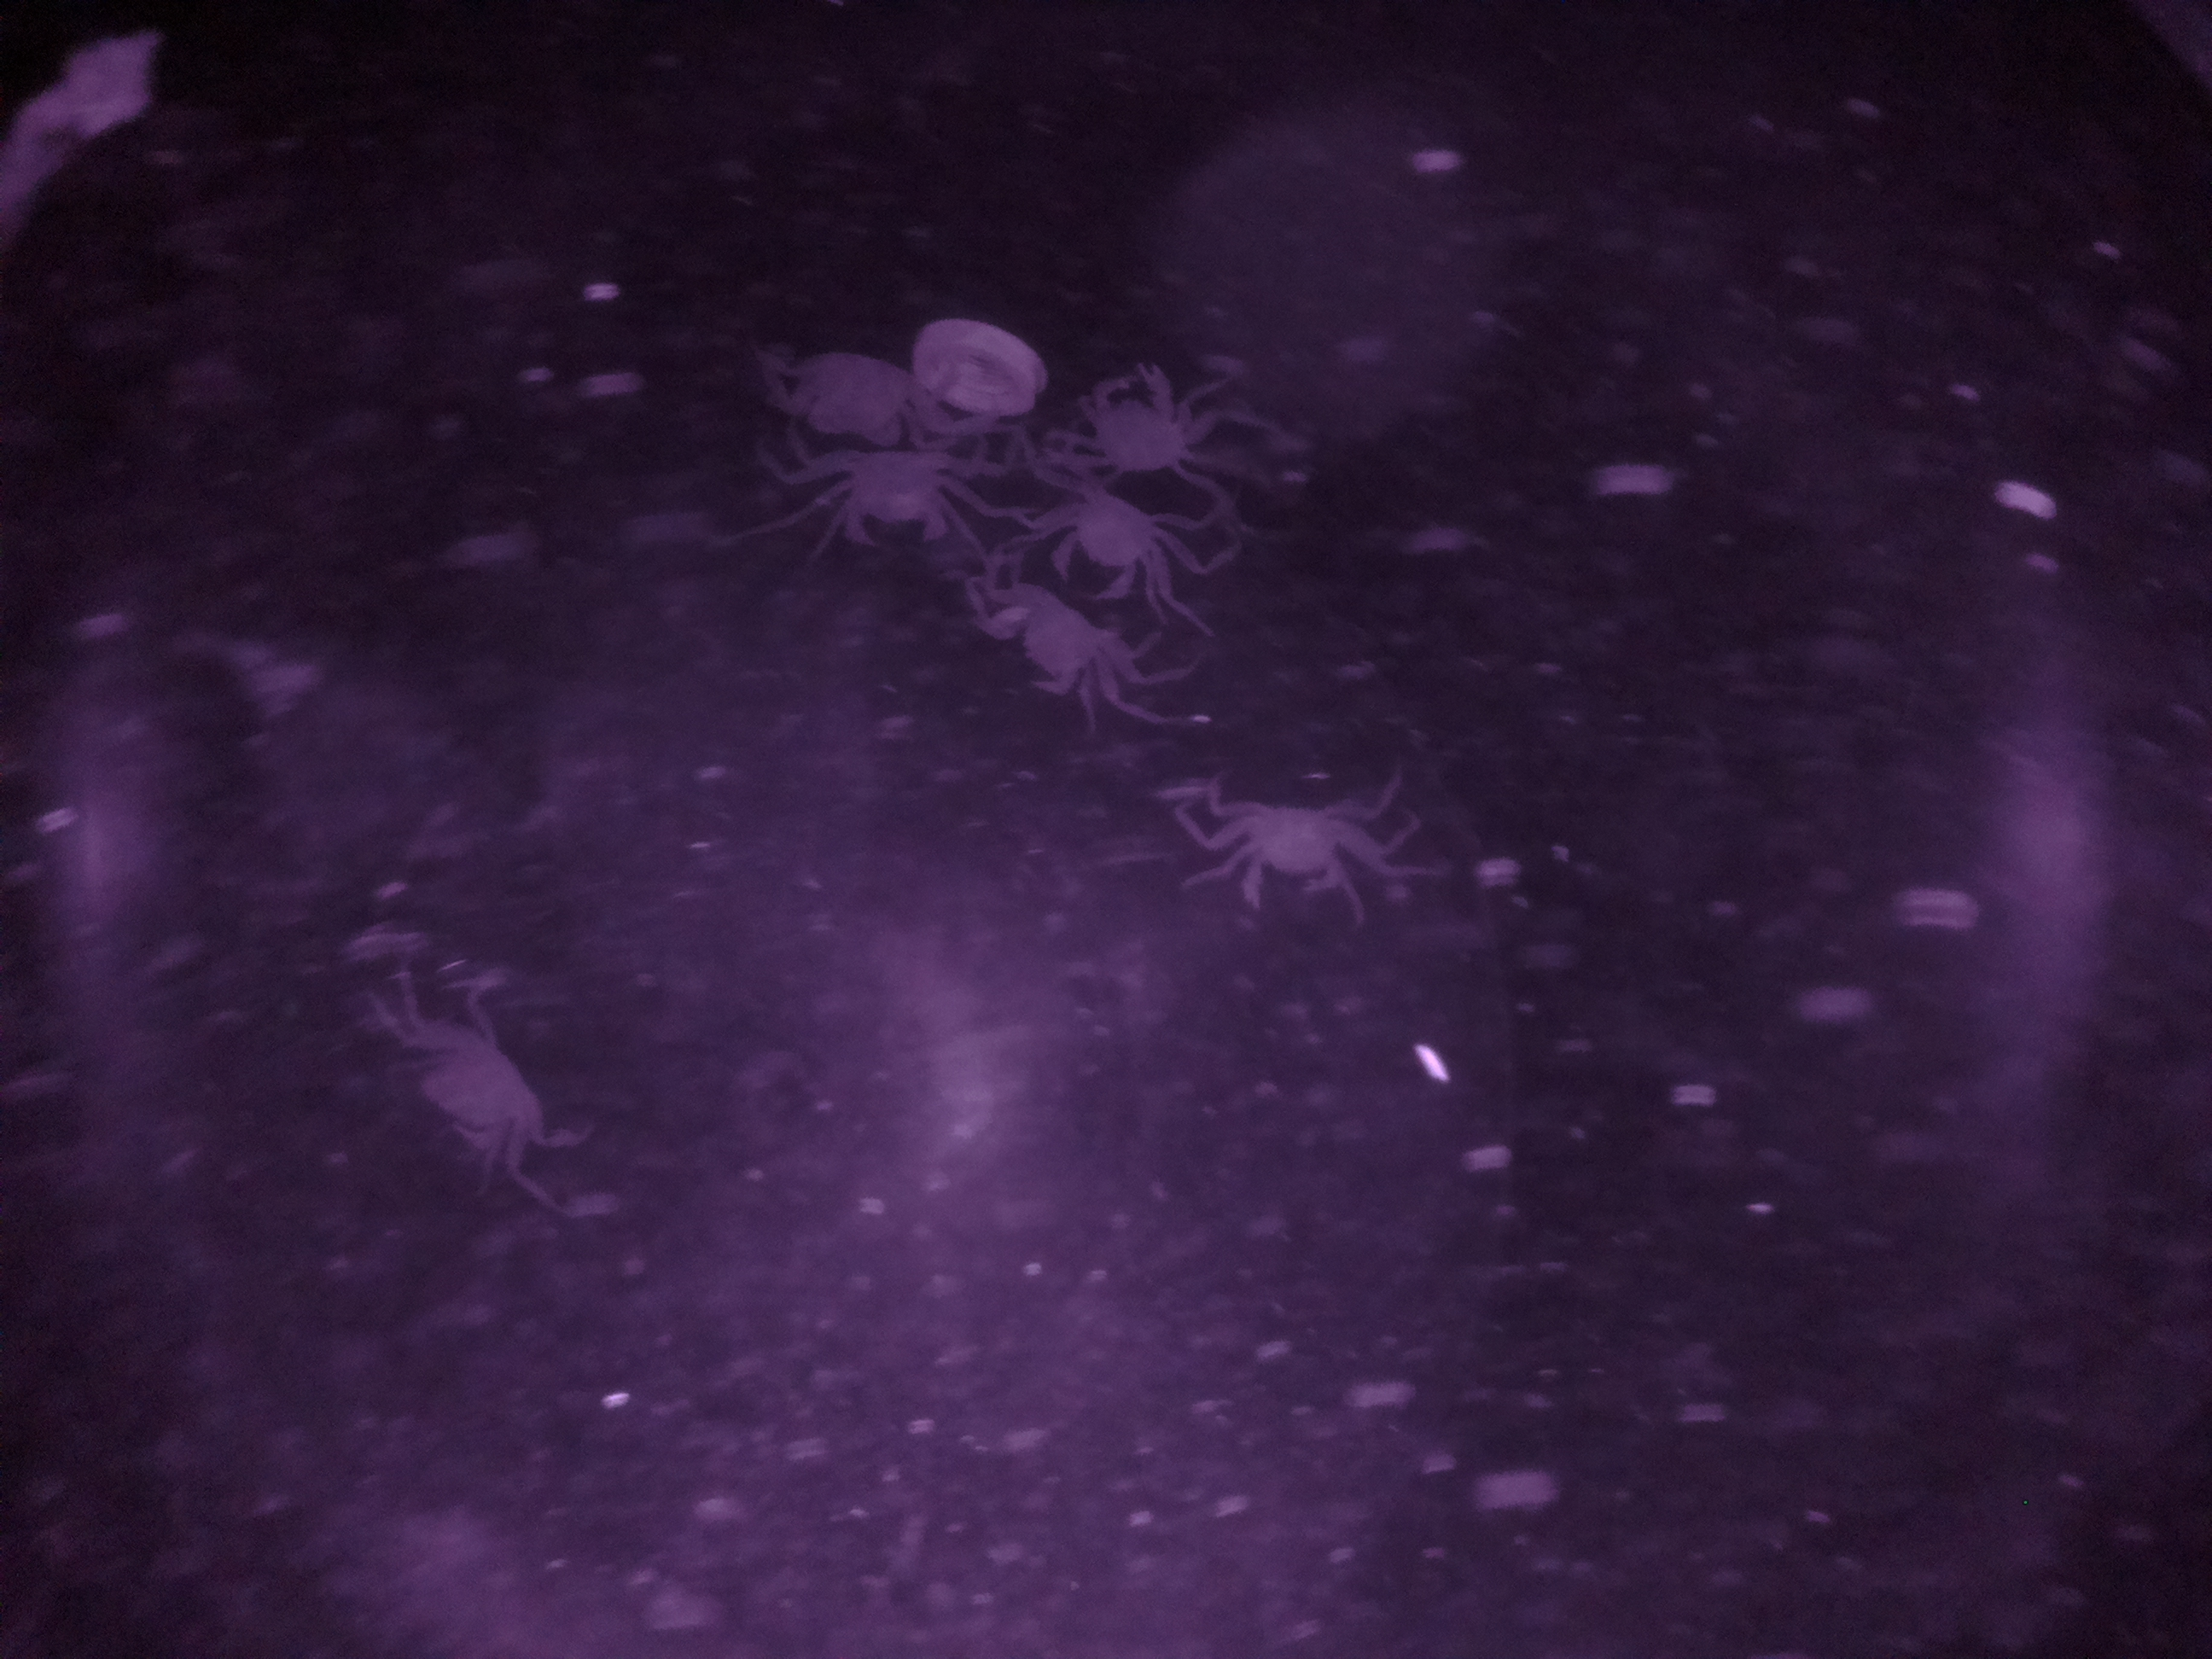Crab: (1184, 772, 1395, 913), (970, 561, 1148, 727), (1057, 345, 1237, 493), (817, 427, 977, 573)
